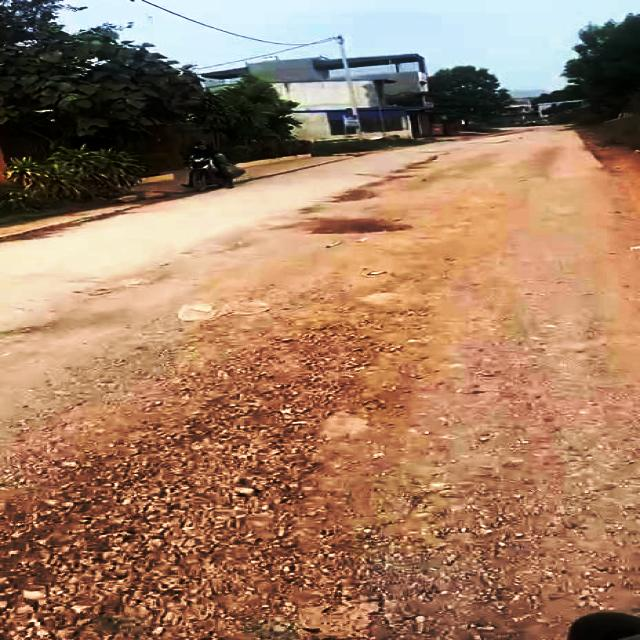pothole: (79, 264, 175, 300), (283, 214, 412, 237)
